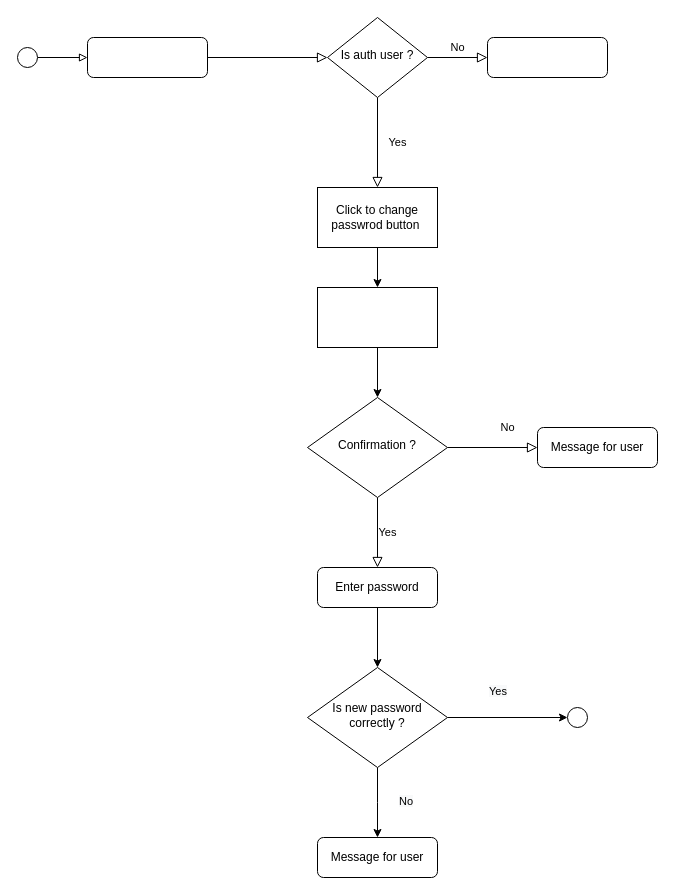
The diagram is 675 pixels wide and 895 high, and some of its shapes have lost their labels. The centre of each missing label's shape, as x and y in pixels:
"Go to change password page" goes at [147,57].
"Go to login page" goes at [547,57].
"Send email confirmation" goes at [377,317].
